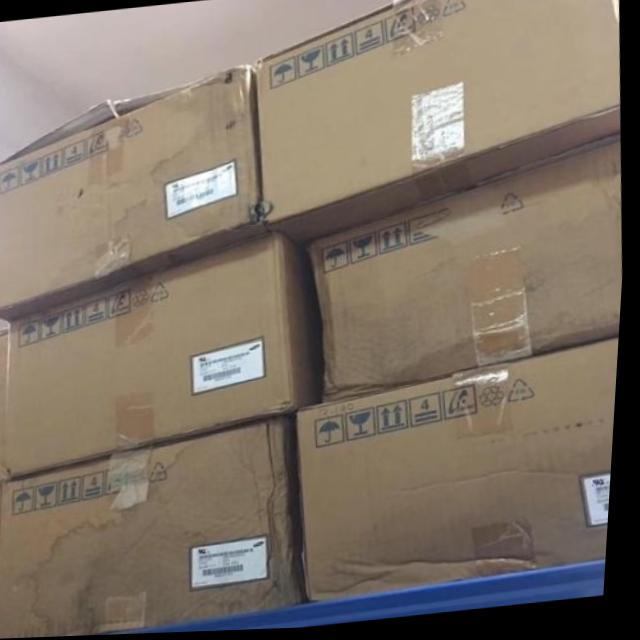box: (254, 0, 622, 248), (301, 342, 623, 604), (310, 140, 626, 406), (9, 235, 326, 478), (3, 415, 315, 639), (0, 67, 269, 321)
